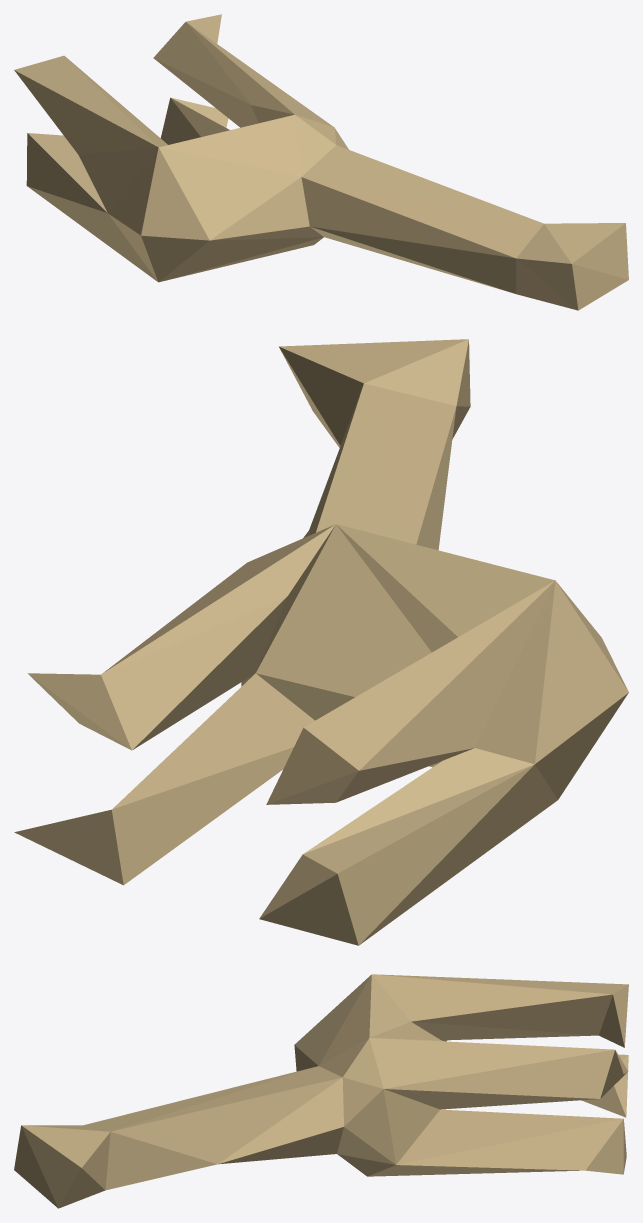
3 renders of one model, top to bottom at view 1: azimuth 30°, elevation 25°; view 2: azimuth 150°, elevation 25°; view 3: azimuth 270°, elevation 25°, orthographic. The views are drawn at different scales.
Visible parts, largest first — view 1: part0; view 2: part0; view 3: part0.
Part boxes in pixels (<box>): part0: <box>14,14,628,310</box>; part0: <box>14,339,628,945</box>; part0: <box>14,974,628,1208</box>.
Bounding box in the file's own units: 3.36 × 1.24 × 5.27.
